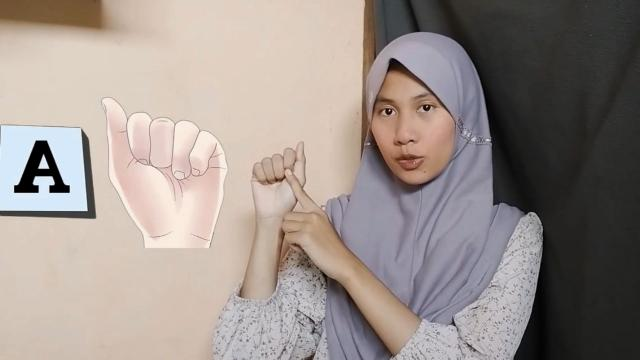A: (252, 143, 304, 226)
